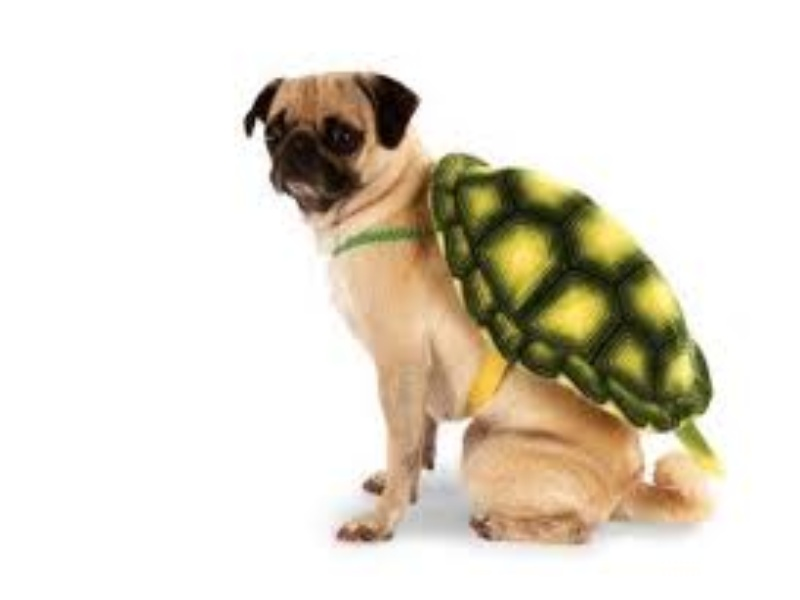dog: (240, 70, 552, 550)
